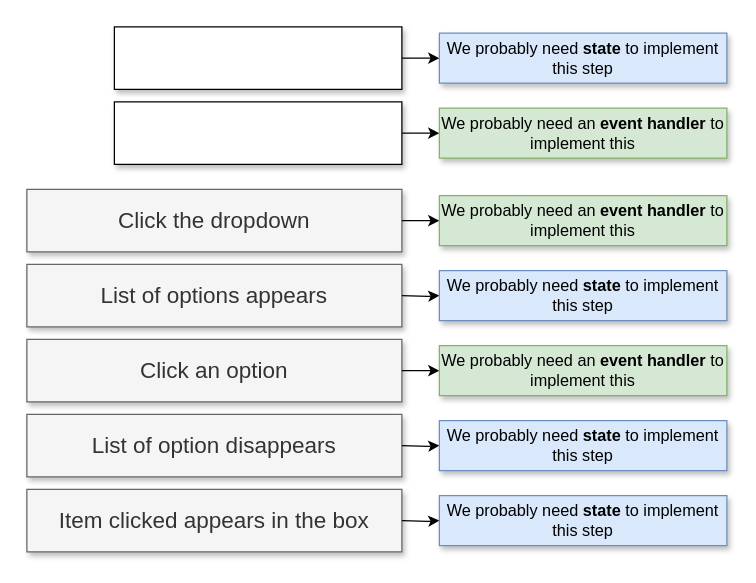
Image size: 756x583. Some labels were removed from this diagram. The centre of each missing label's shape, as x and y in pixels:
User committed some action: the point at 258,134
User sees something on the screen change: the point at 258,59
